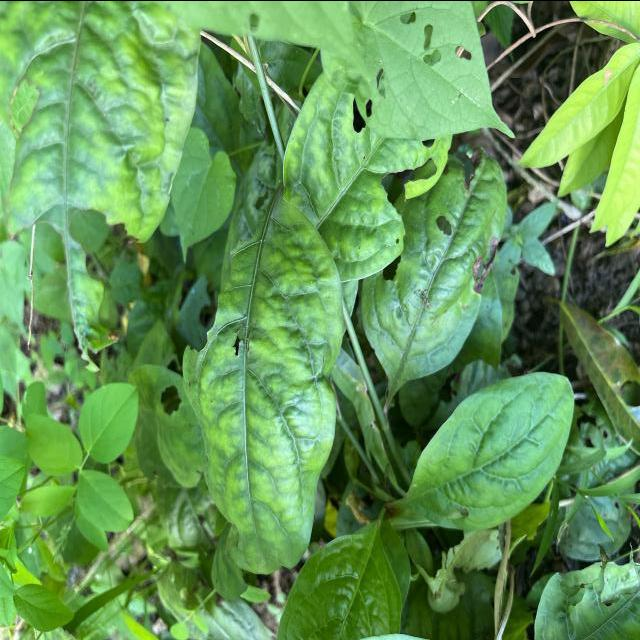Plumbago indica: (189, 148, 347, 574), (362, 142, 505, 388), (398, 367, 584, 534)
